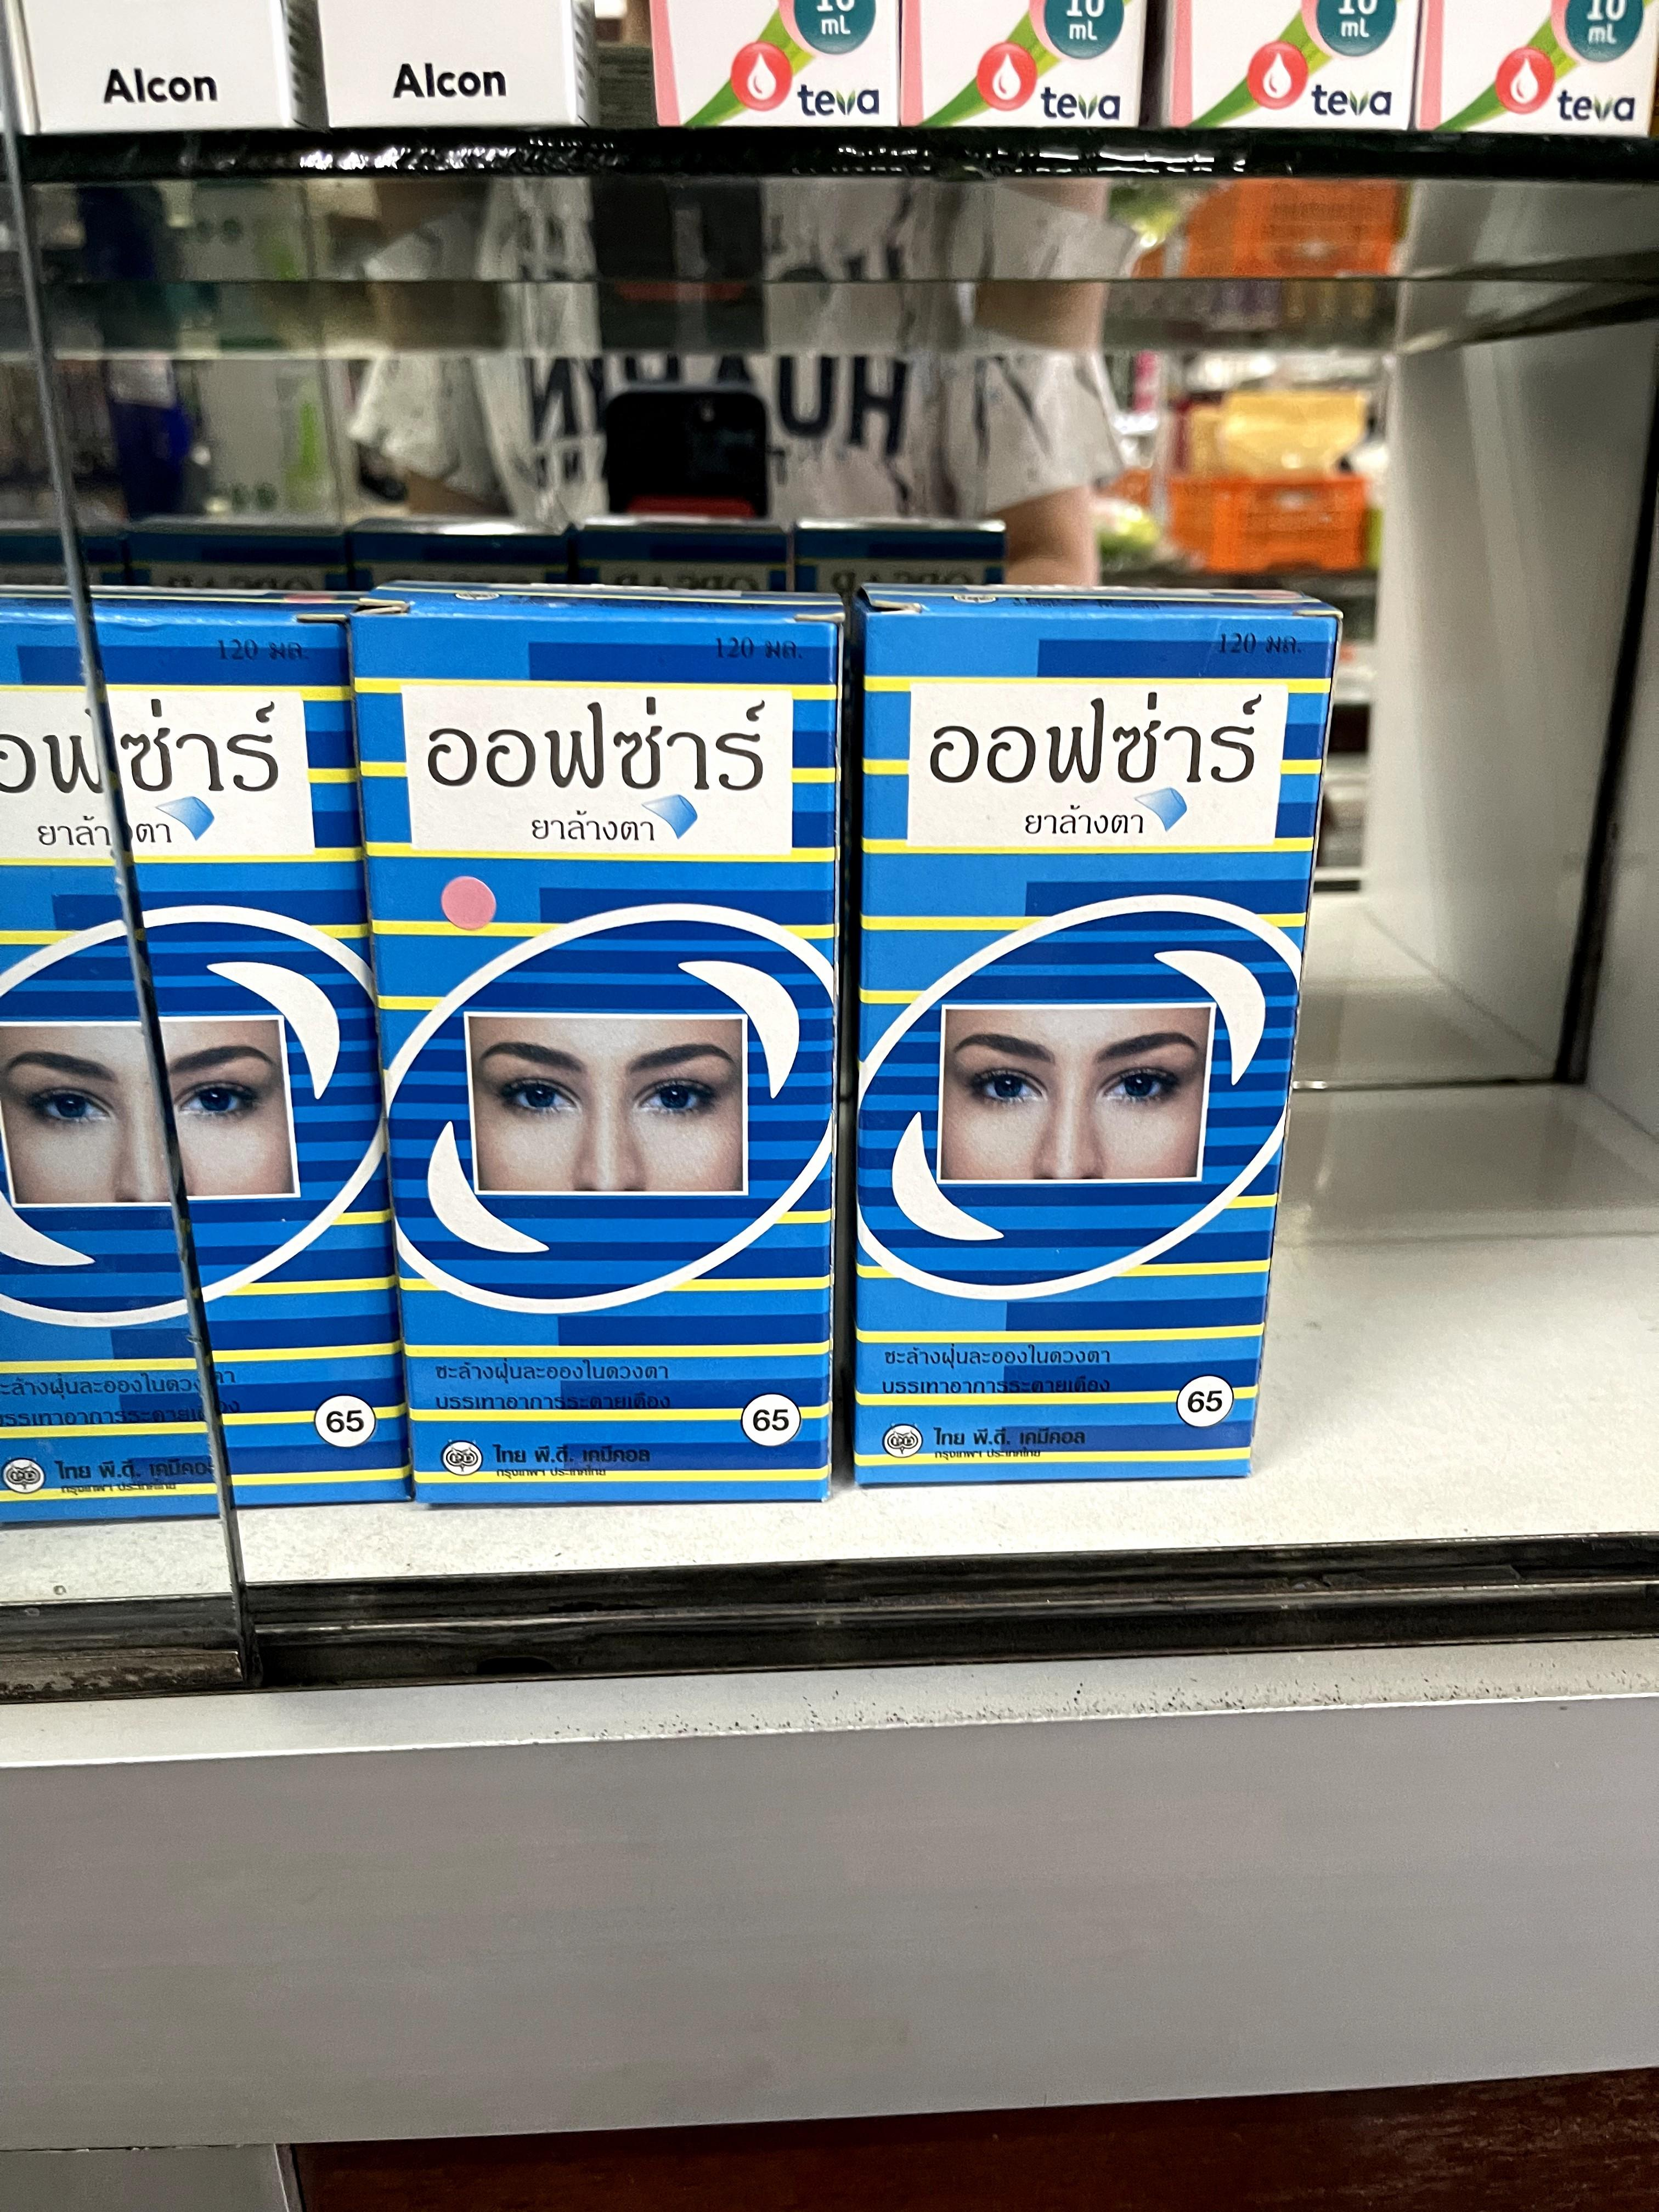Opsar: (364, 582, 842, 1507), (850, 583, 1330, 1484), (0, 590, 392, 1512)
